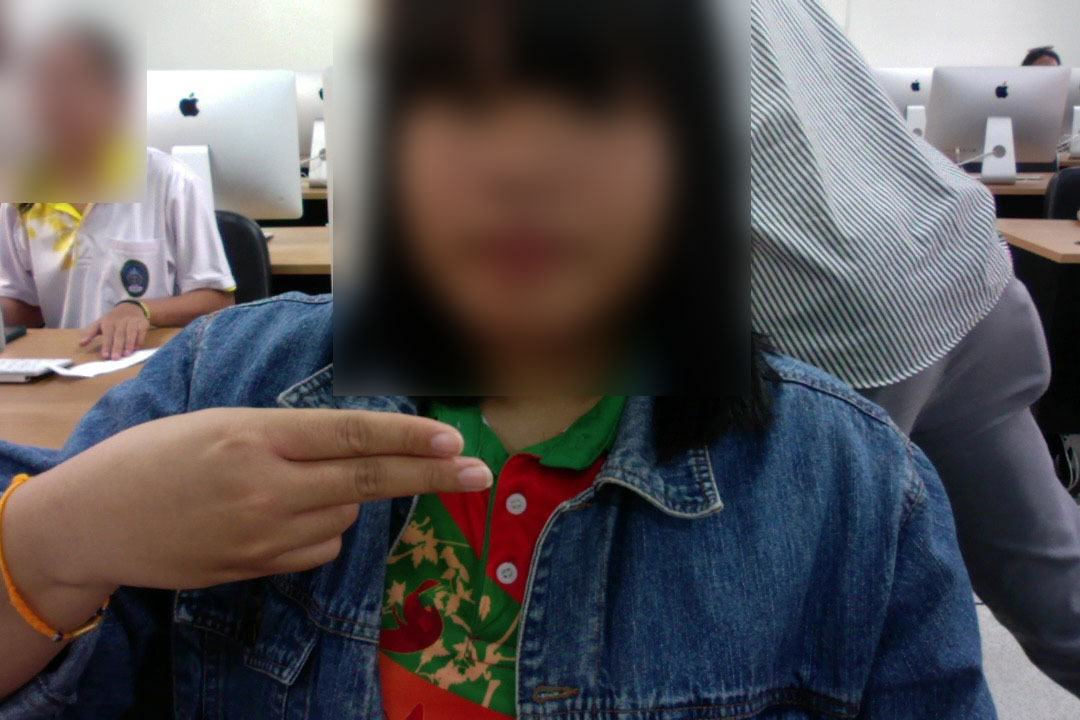hor: (62, 399, 496, 606)
